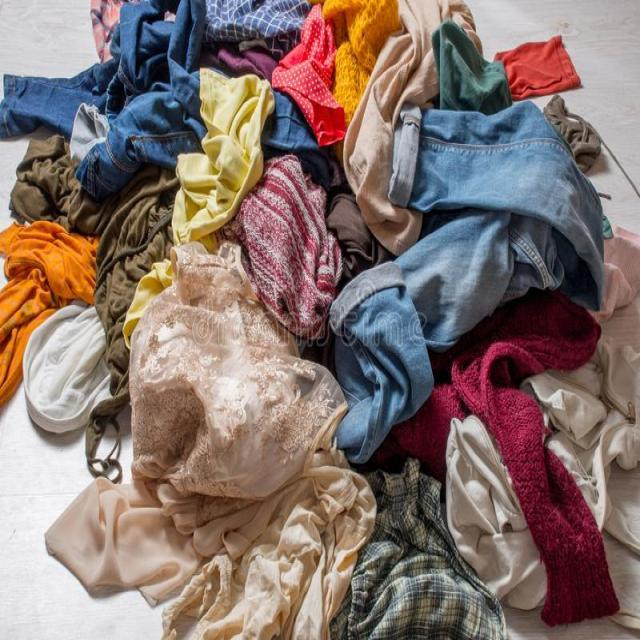clothes: (332, 88, 620, 438), (123, 250, 371, 640), (384, 296, 621, 620), (15, 5, 222, 221), (168, 54, 284, 258), (228, 158, 354, 332), (0, 221, 102, 398), (17, 304, 111, 442), (315, 1, 408, 140)
